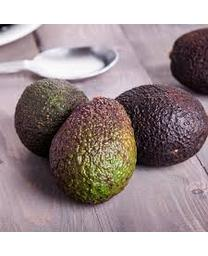avocado: (50, 96, 138, 209), (112, 83, 206, 168), (14, 78, 94, 160)
